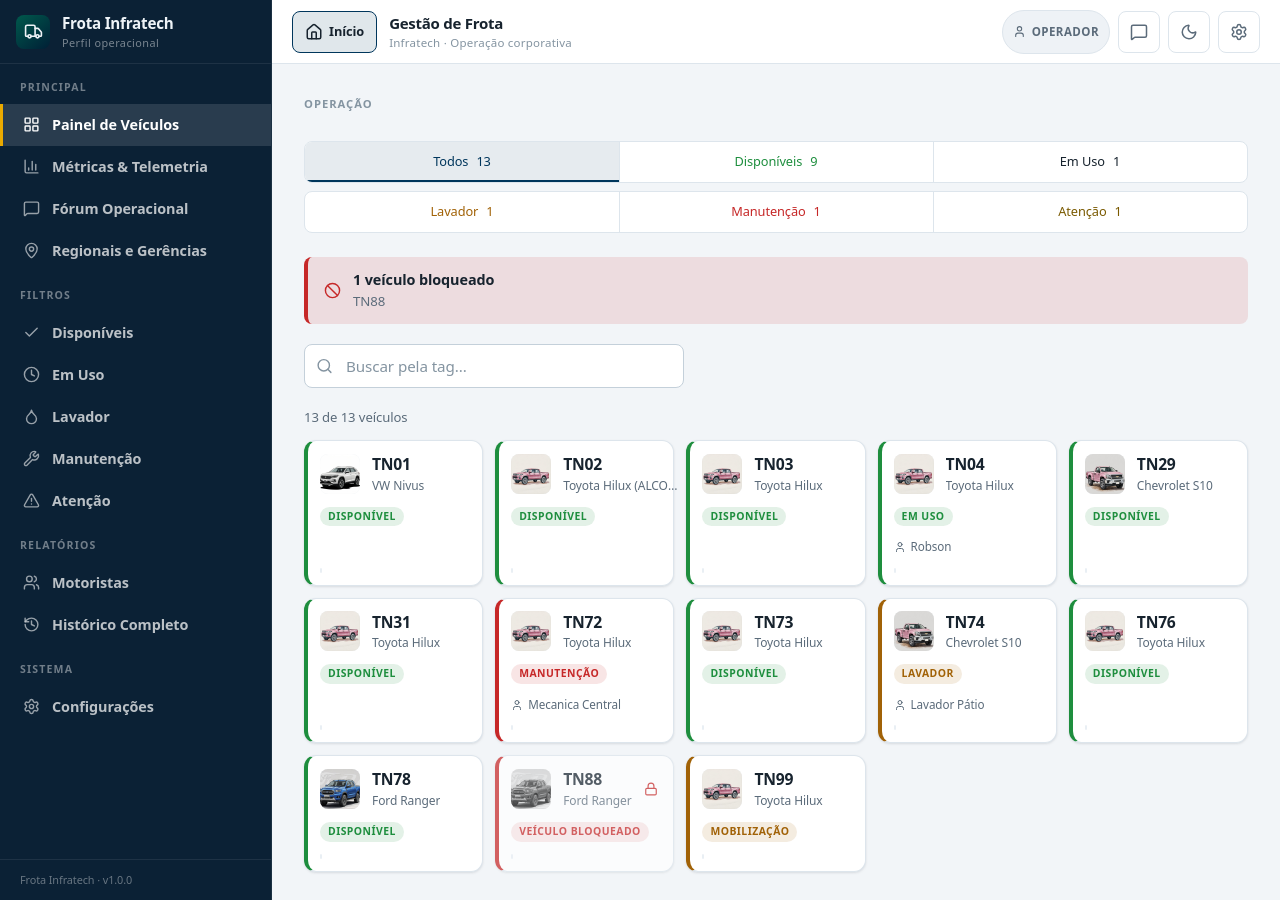
Test: Acesso › senha errada não libera o administrador
Step 1. Click the button with aria-label "Entrar como administrador" → [1056, 32], box [1002,10,1110,54]
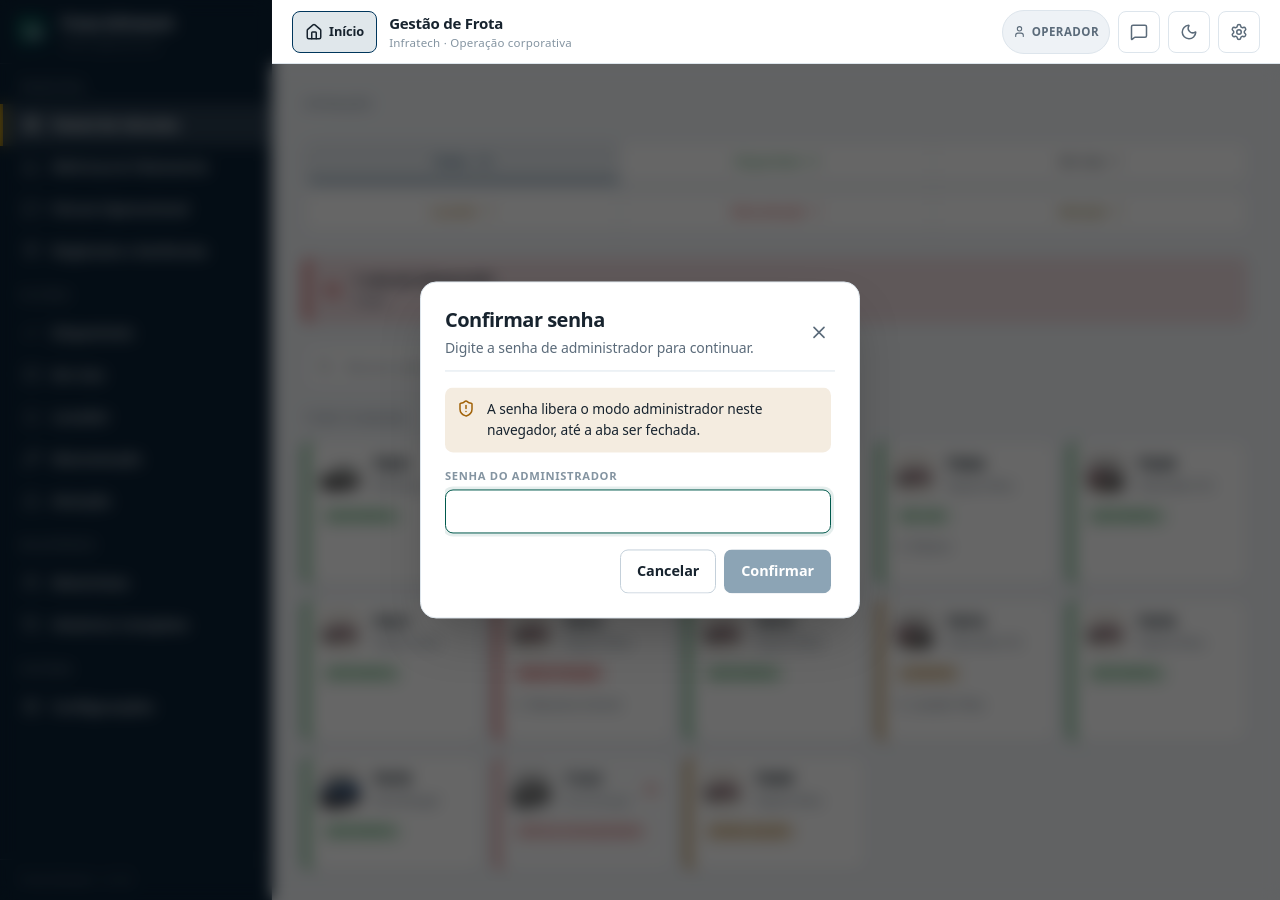
Step 2. Type "errada" into the password field labelled "Senha do administrador" → [638, 512], box [445,490,831,534]
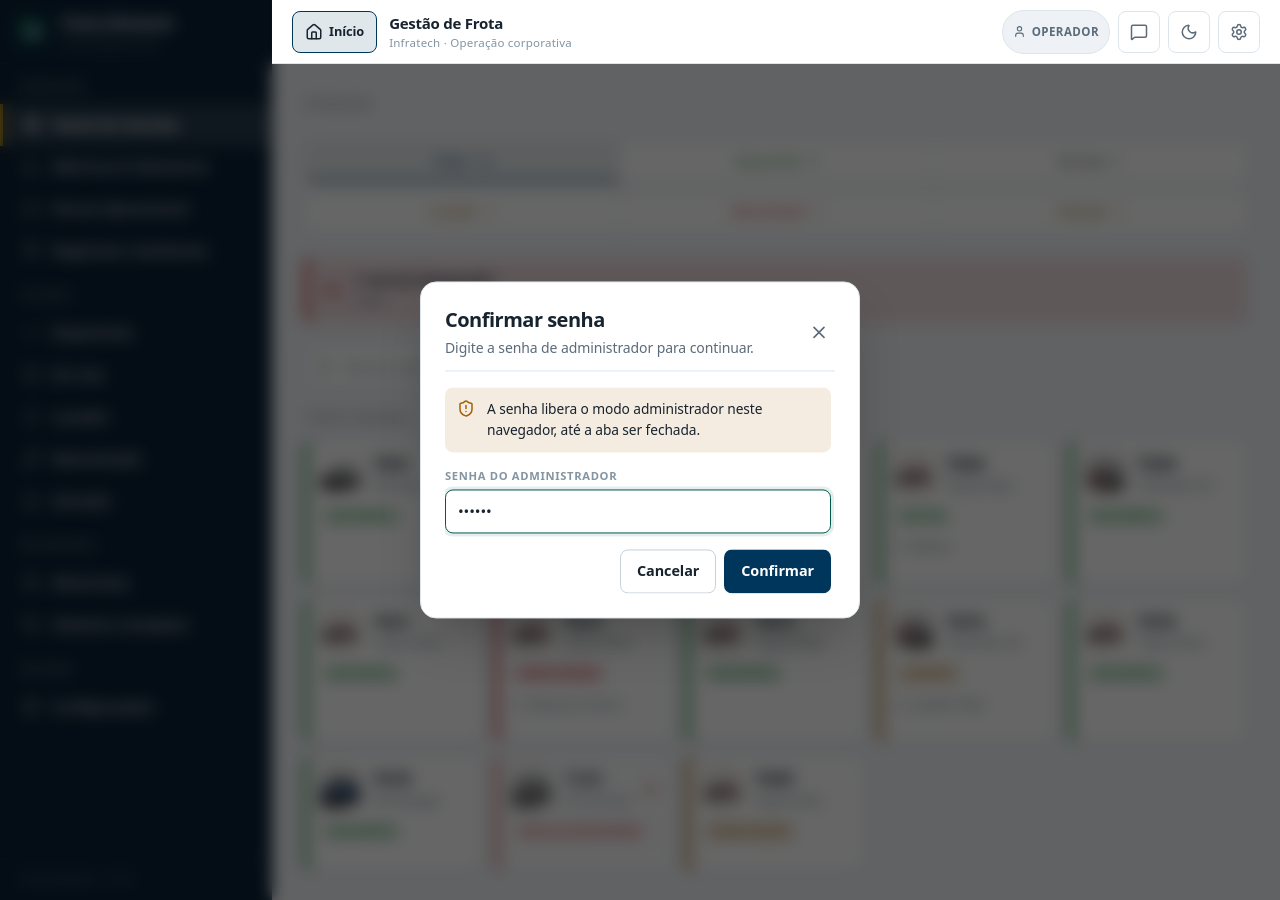
Step 3. Click the button "Confirmar" → [778, 572], box [724,550,831,594]
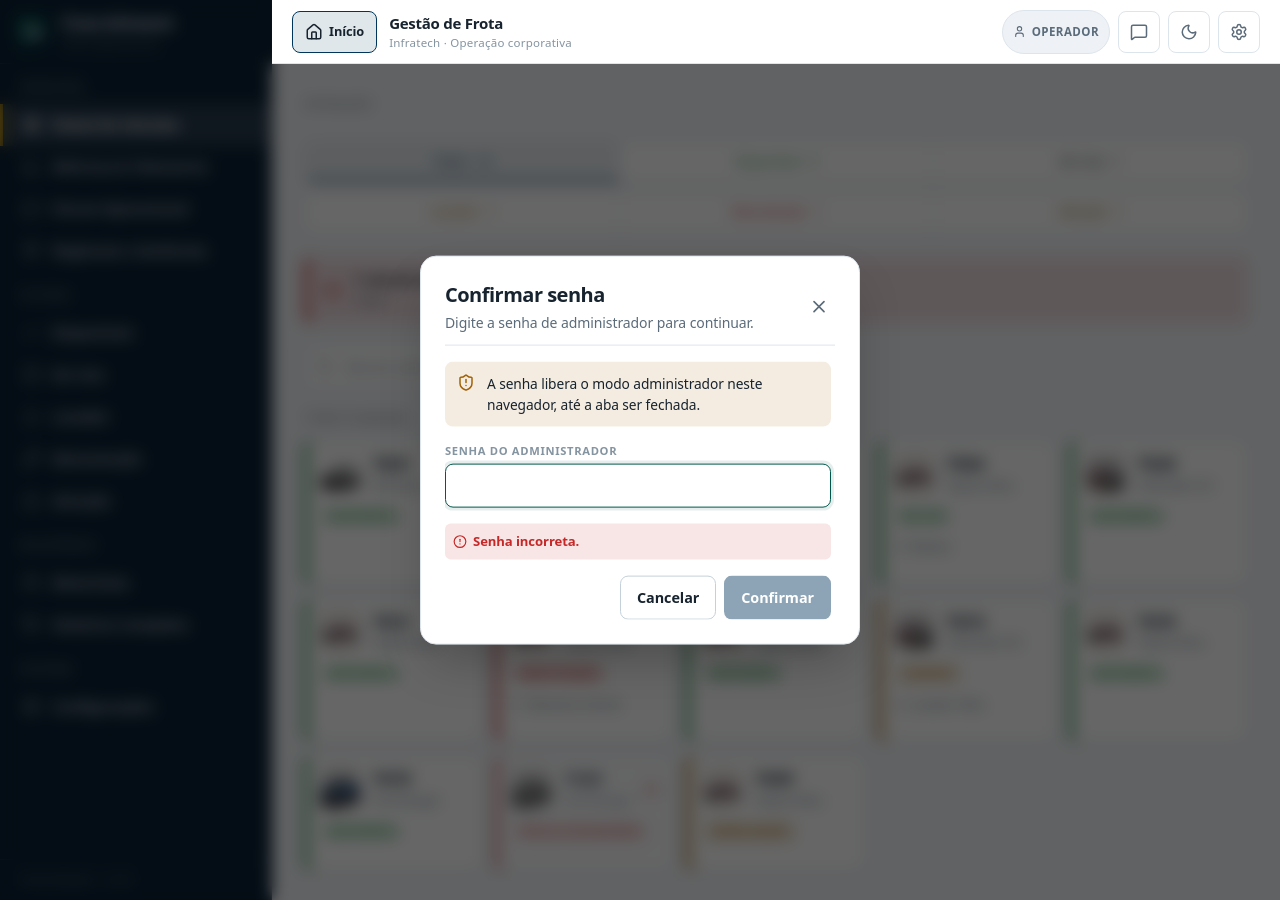
Now the text "Senha incorreta." is shown, box [445,524,831,559]
